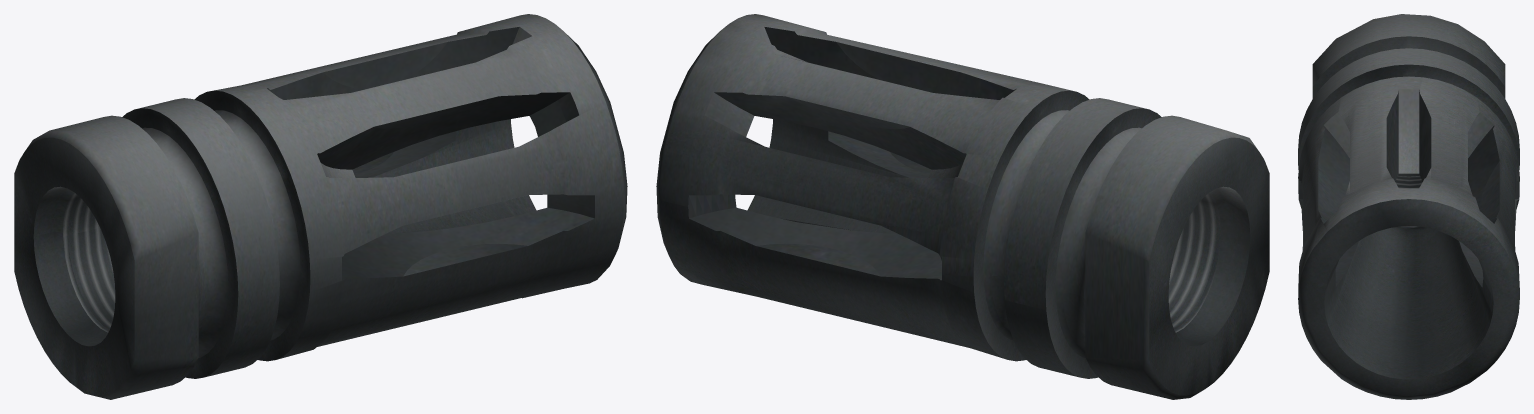
Rendered from Compensator.dae.
The picture shows the model from 3 angles, left to right: view 1: azimuth 30°, elevation 25°; view 2: azimuth 150°, elevation 25°; view 3: azimuth 270°, elevation 25°; orthographic projection. The views are drawn at different scales.
Parts seen in each view (by area): view 1: Compensator; view 2: Compensator; view 3: Compensator.
Boxes of the visible parts, <box> form: Compensator: <box>14,14,627,399</box>; Compensator: <box>656,14,1269,399</box>; Compensator: <box>1298,14,1519,399</box>.
Bounding box in the file's own units: 0.0436 × 0.0214 × 0.0214.
1 material, 1 textured.
